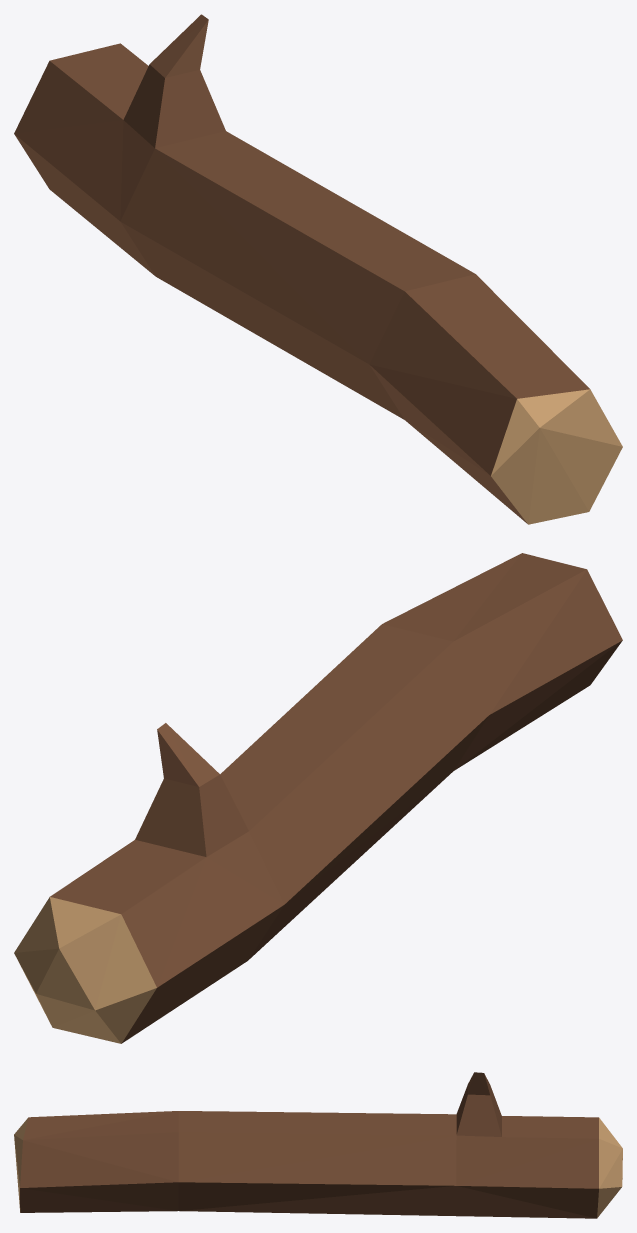
Rendered from stump-08.glb.
3 renders of one model, top to bottom at view 1: azimuth 30°, elevation 25°; view 2: azimuth 150°, elevation 25°; view 3: azimuth 270°, elevation 25°, orthographic. The views are drawn at different scales.
Visible parts, largest first — view 1: Branch2; view 2: Branch2; view 3: Branch2.
Boxes of the visible parts, x1=… form: Branch2: x1=14, y1=14, x2=622, y2=524; Branch2: x1=14, y1=553, x2=622, y2=1043; Branch2: x1=14, y1=1072, x2=622, y2=1218.
Bounding box in the file's own units: 0.5531 × 0.7452 × 2.88.
